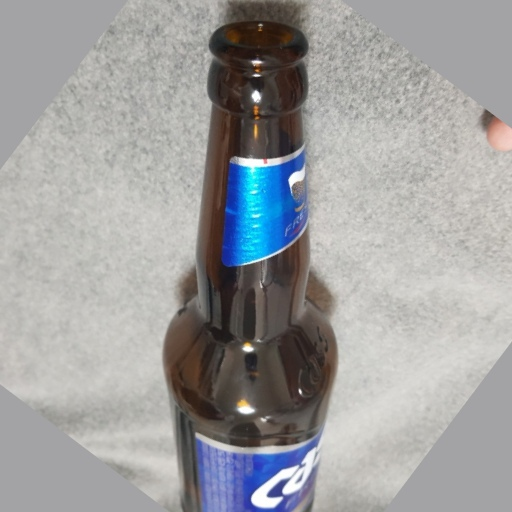Glass_1: (165, 21, 341, 512)
